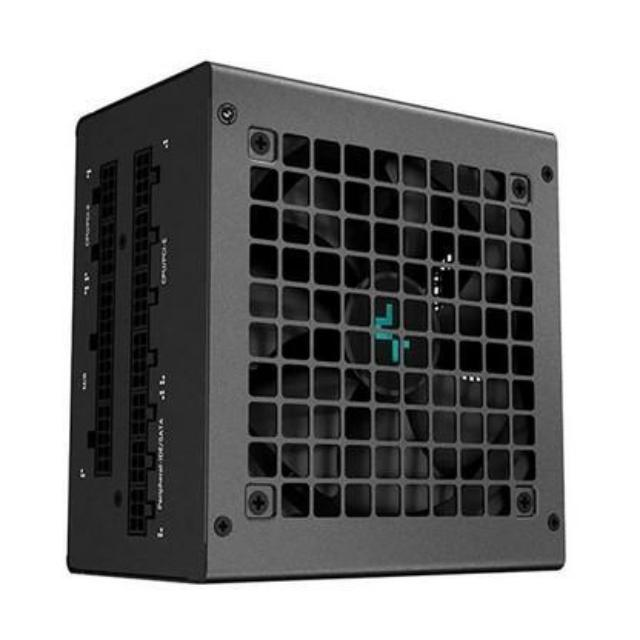PSU: (50, 47, 579, 596)
